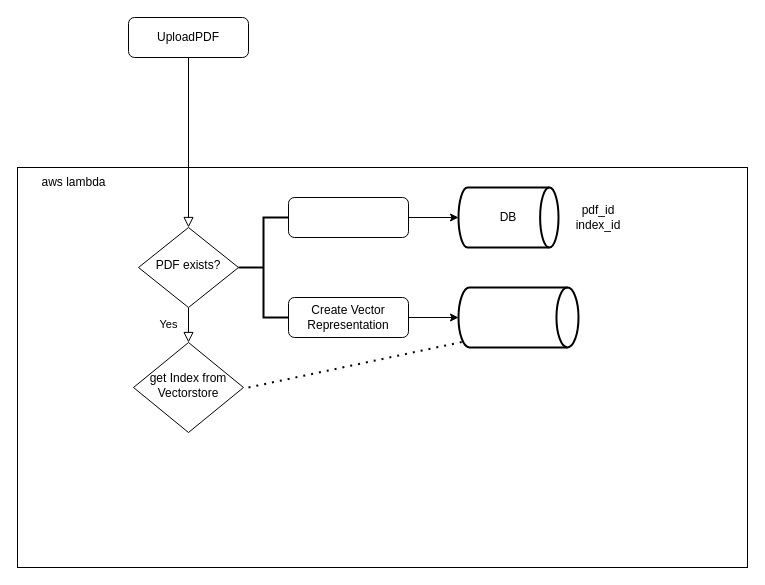
The diagram is 765 pixels wide and 585 high, and some of its shapes have lost their labels. The shapes that lost their labels are listed below. From the top down, each one's centre as x and y in pixels, then its label:
At pixel 348 217: "Store PDF".
At pixel 518 317: "Vectorstore".
